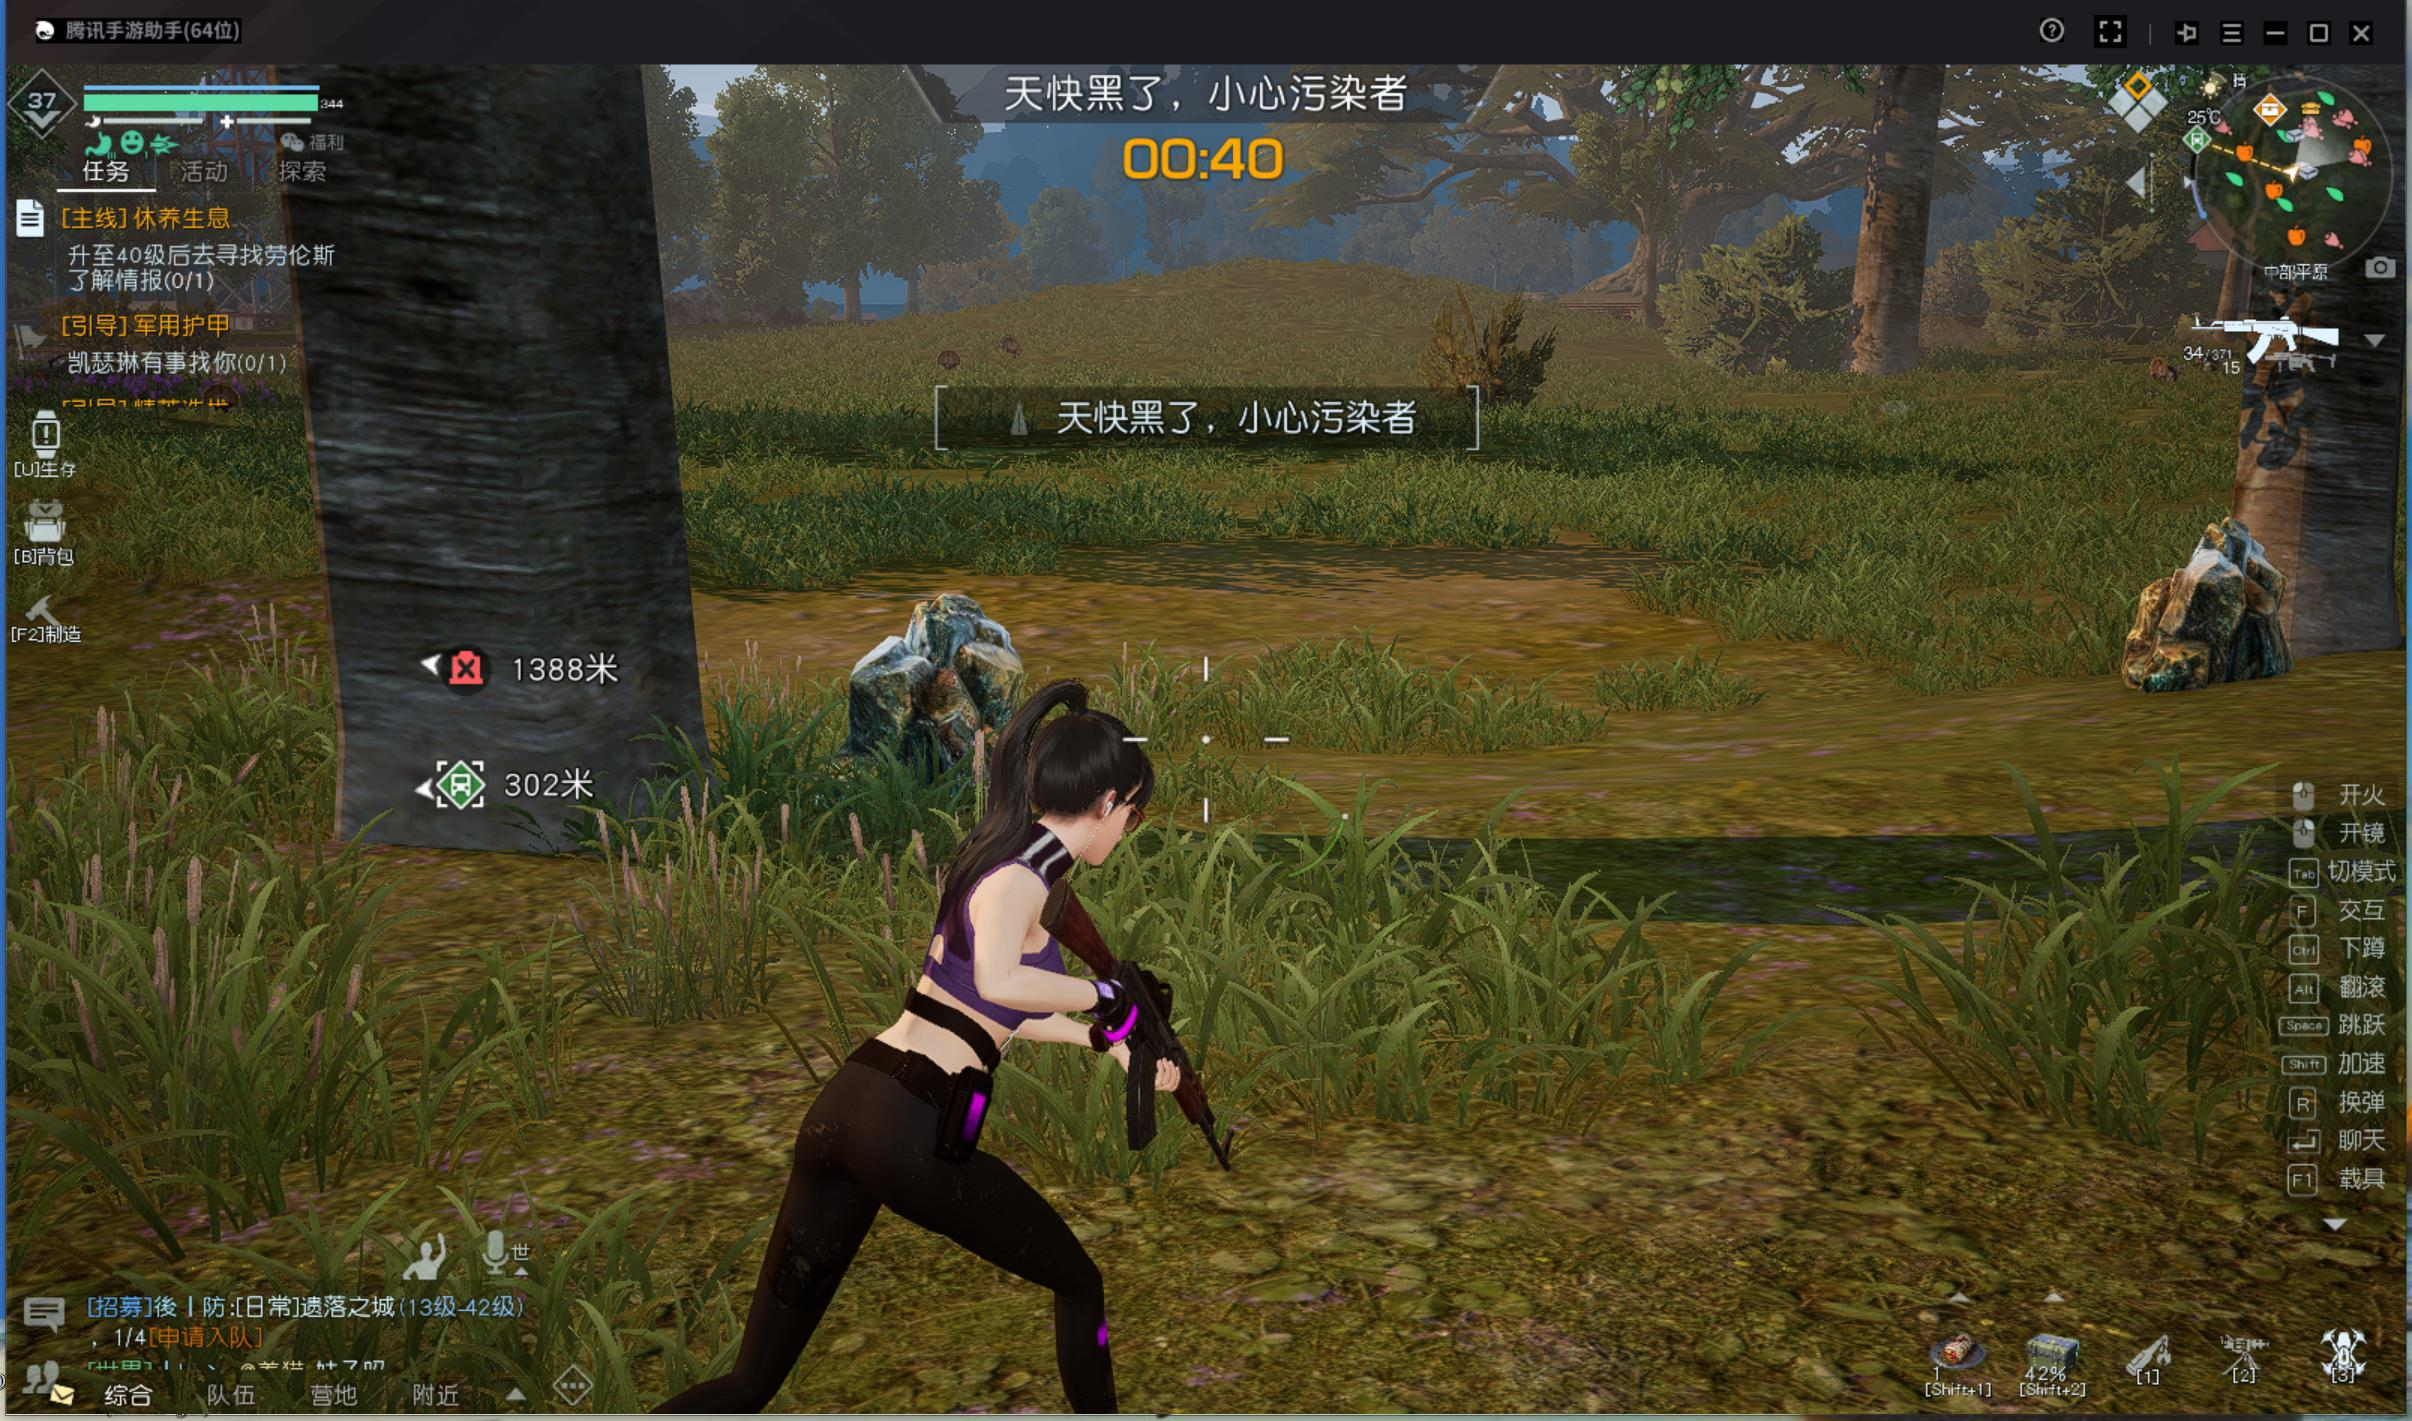stone: (2096, 513, 2326, 712), (830, 551, 1017, 776)
tree: (262, 137, 768, 890), (2224, 151, 2405, 528)
